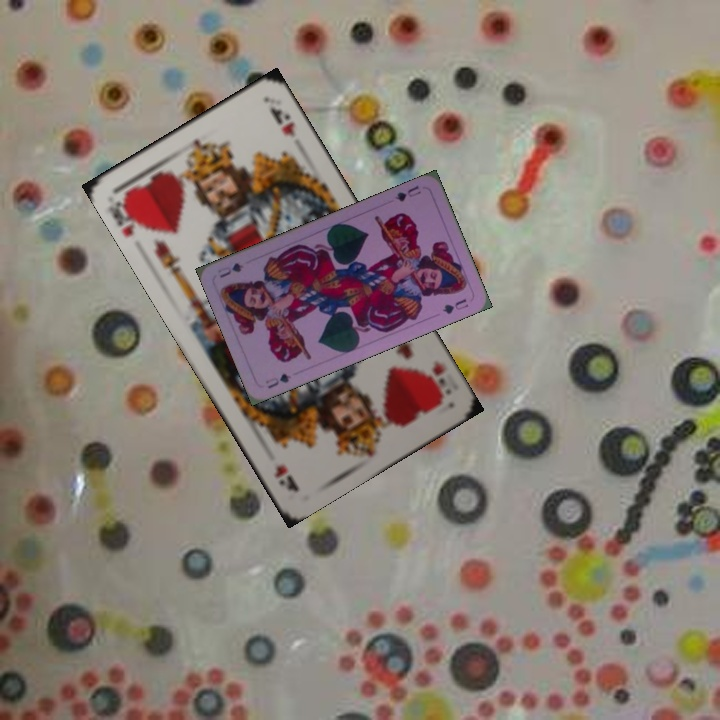GU: (391, 181, 423, 204), (261, 369, 294, 391)
HK: (104, 190, 149, 240), (418, 356, 455, 404)
